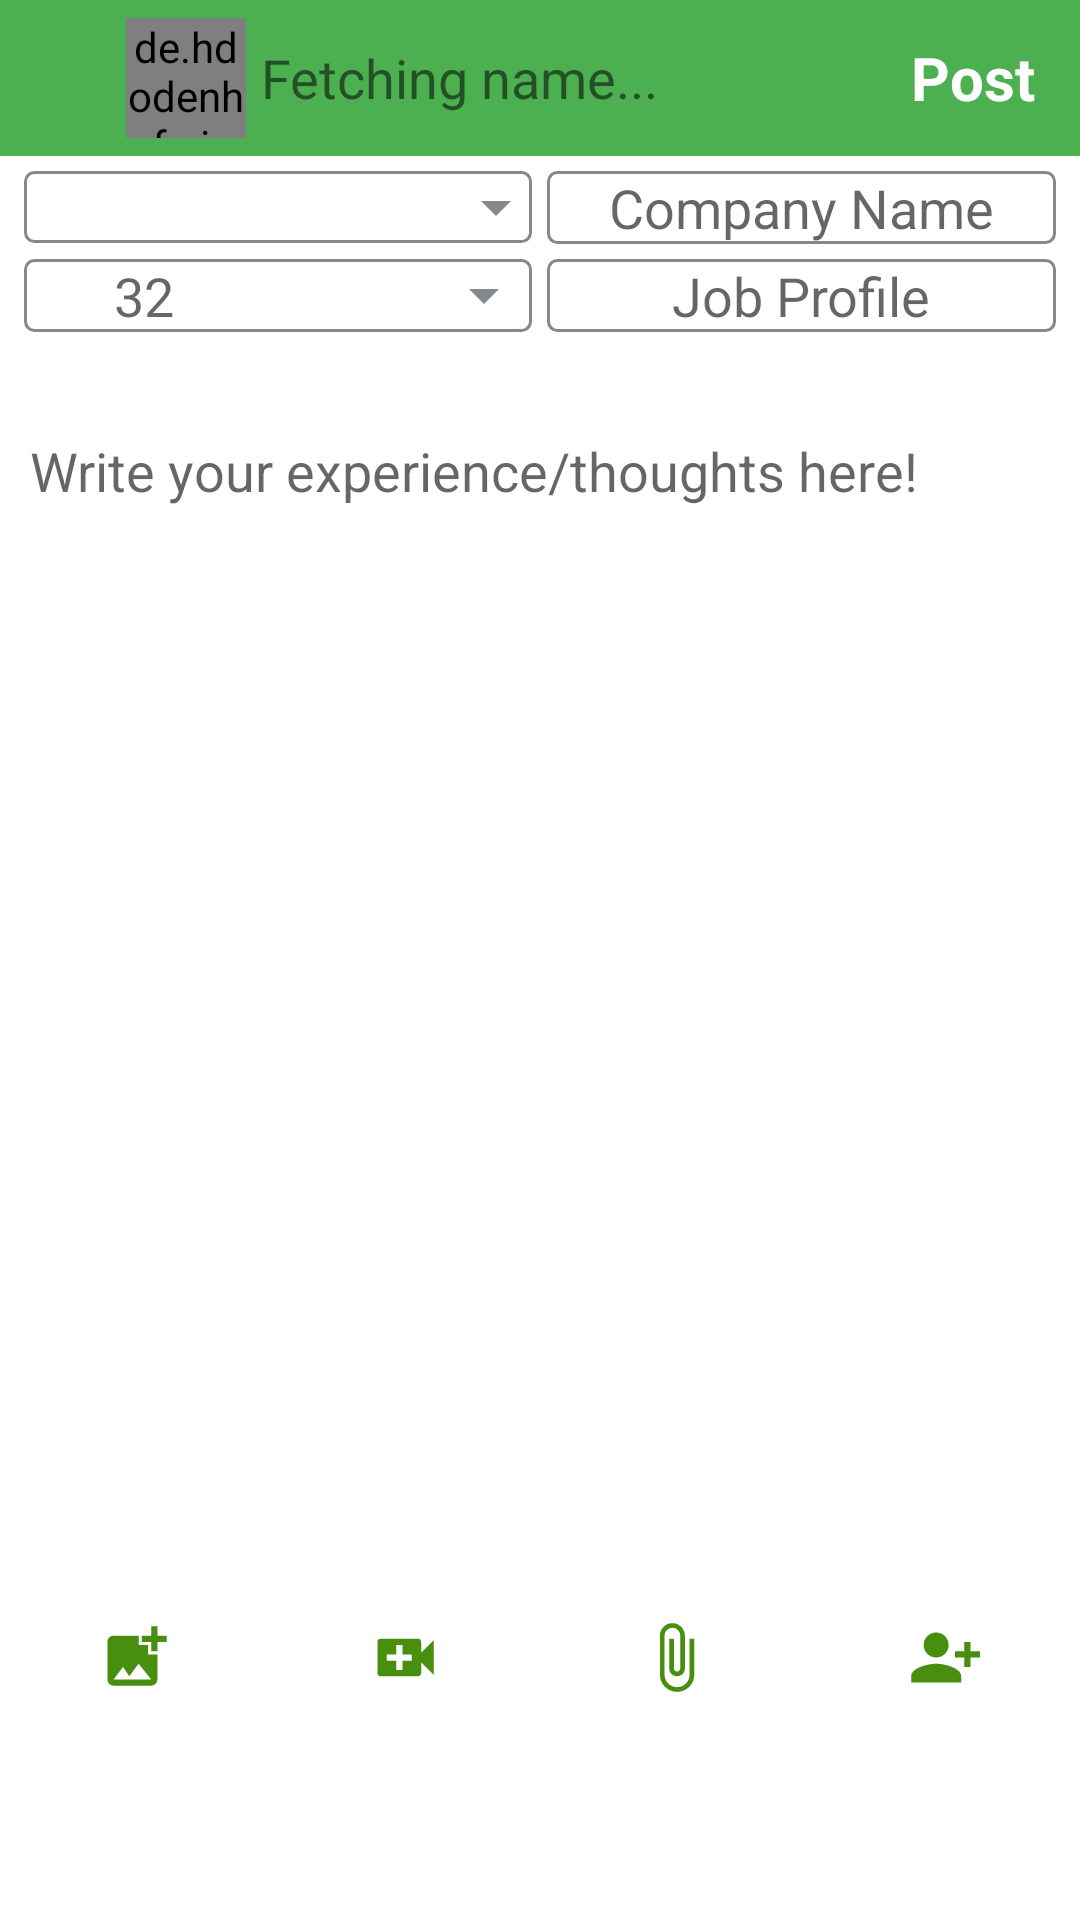

Where to tap for icons on this 1080 × 1920 app screen, as point (x, y):
file: point (677, 1657)
video: point (405, 1657)
